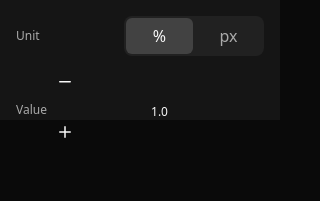
UnitInput Component › Invalid Character Handling › should truncate at first invalid character: 123a -> 123
Replace the text in the field with "123a" at (160, 112), box [55,102,264,122]
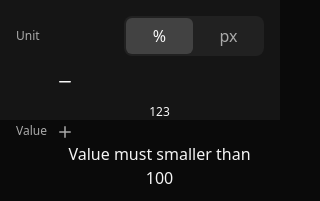
Expected: the field holds "123", [55,102,264,122]
